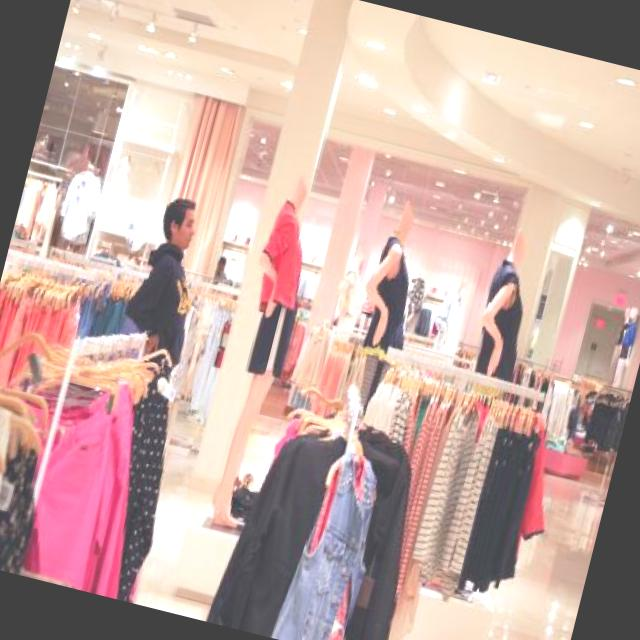Person: (110, 184, 226, 384), (467, 238, 554, 394)
